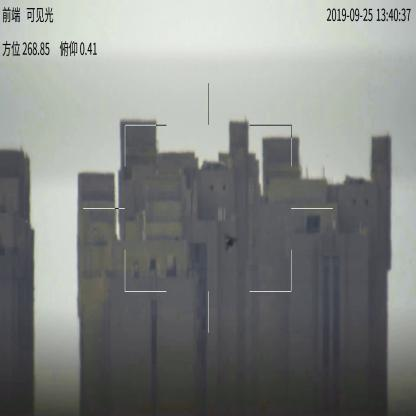uav: (223, 228, 244, 253)
